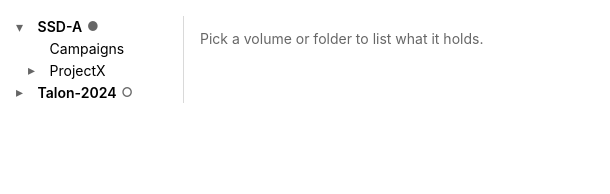
it: a listing's notices render verbatim under its count
Click the button named "ProjectX folders" at (35, 70), box 28,64 -> 42,78
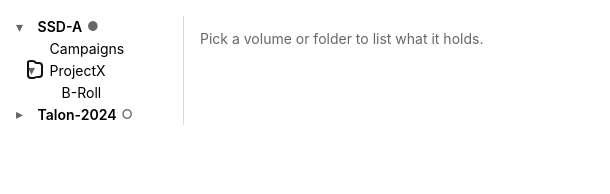
Click the button "B-Roll" at (114, 92), box 57,81 -> 171,103
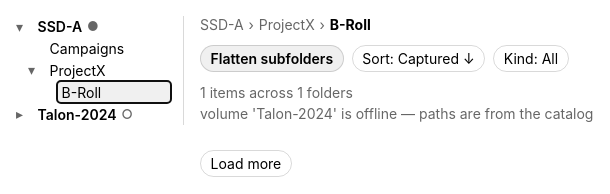
Expected: the text "volume 'Talon-2024' is offline — paths are from the catalog" is shown, 200,105 -> 593,122
